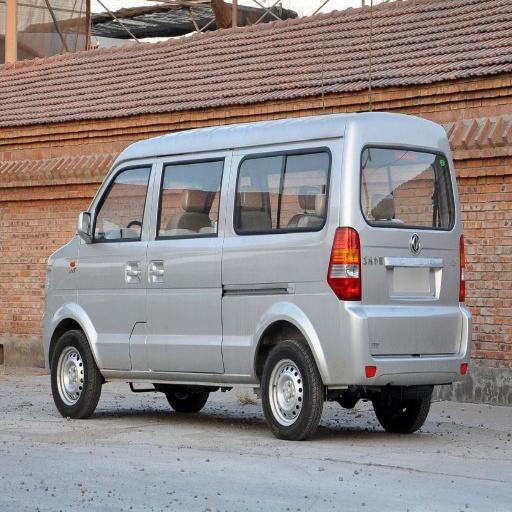back_bumper: (325, 299, 468, 385)
back_left_door: (150, 165, 216, 265)
back_left_light: (327, 231, 359, 299)
back_right_door: (359, 143, 415, 204)
trunk: (158, 251, 344, 382), (341, 229, 460, 354)
